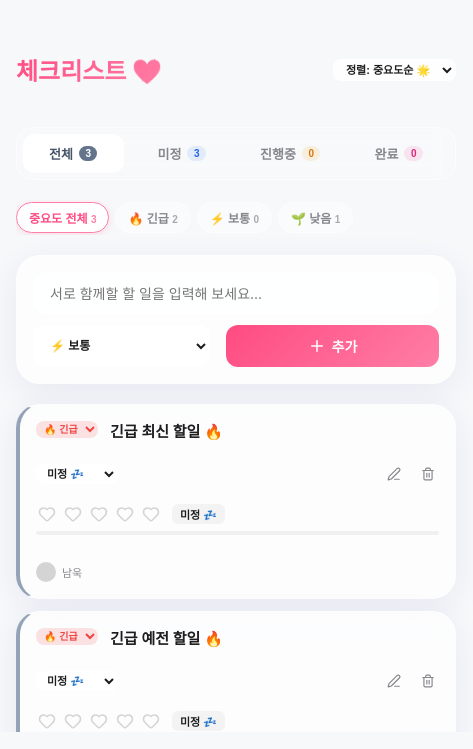
Test: Checklist Component › sorts items by priority (1st: priority, 2nd: newest) and by newest correctly
The image size is (473, 749).
Expected: the text "긴급 최신 할일 🔥" is shown, 110,422 -> 223,441
Expected: the text "긴급 예전 할일 🔥" is shown, 110,629 -> 223,648
Select "정렬: 최신순 ⏰" in the dropdown with class "checklist-sort-select": (394, 70) 333,58 -> 456,80
(page scrolled)
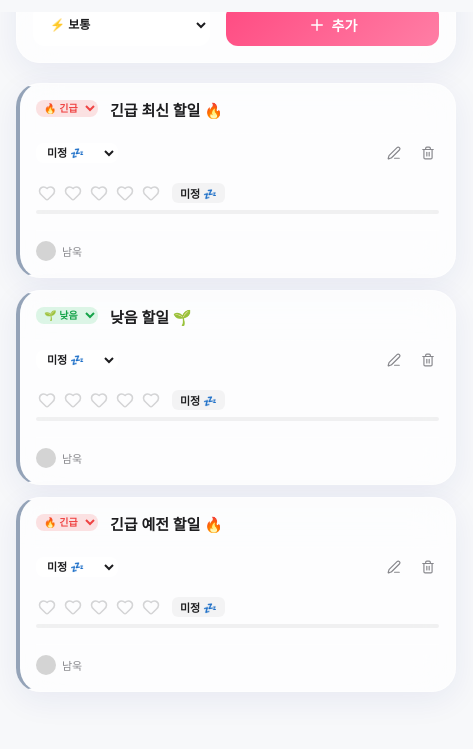
Expected: the text "긴급 최신 할일 🔥" is shown, 110,101 -> 223,120
Expected: the text "낮음 할일 🌱" is shown, 110,308 -> 192,327
